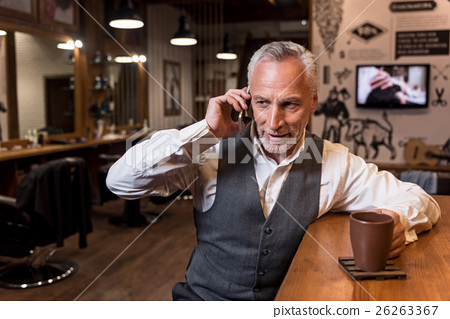phone: (234, 87, 251, 128)
talk: (206, 80, 308, 149)
